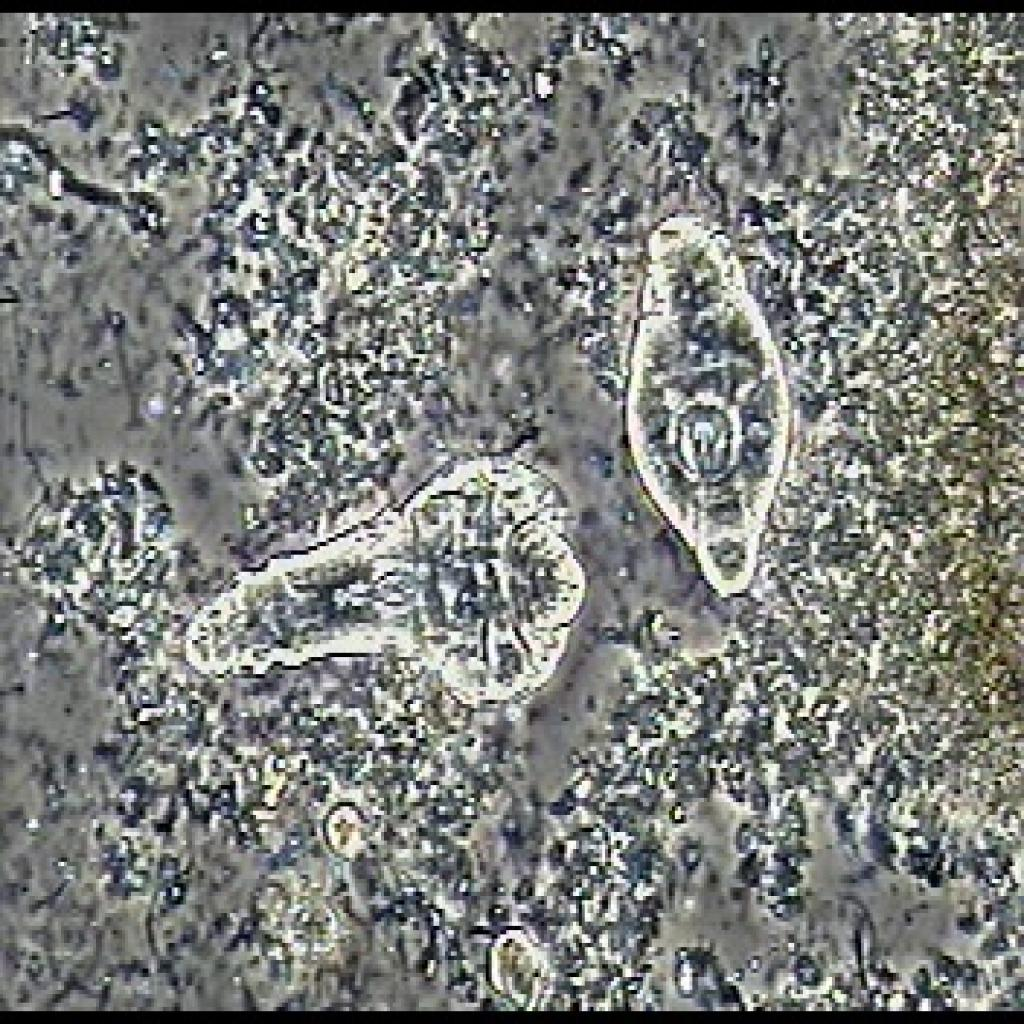Rotatoria: (134, 425, 593, 736), (608, 162, 797, 602)
